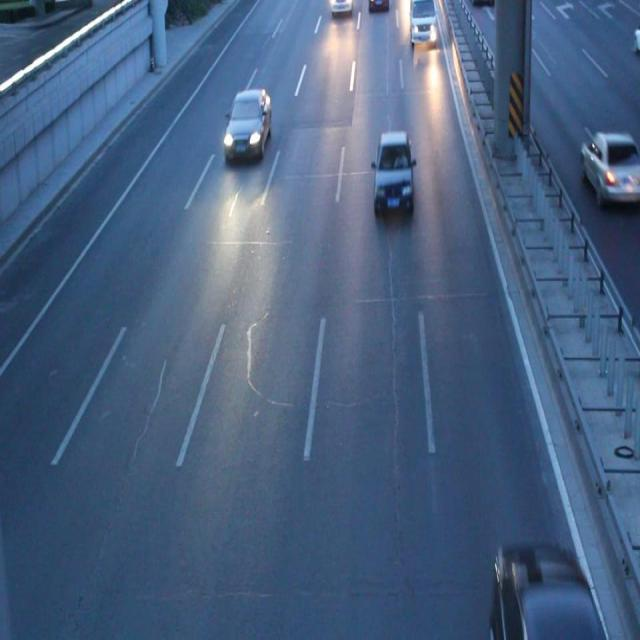car: (489, 546, 606, 640), (370, 130, 414, 214), (224, 90, 270, 160)
truck: (409, 2, 436, 48)
